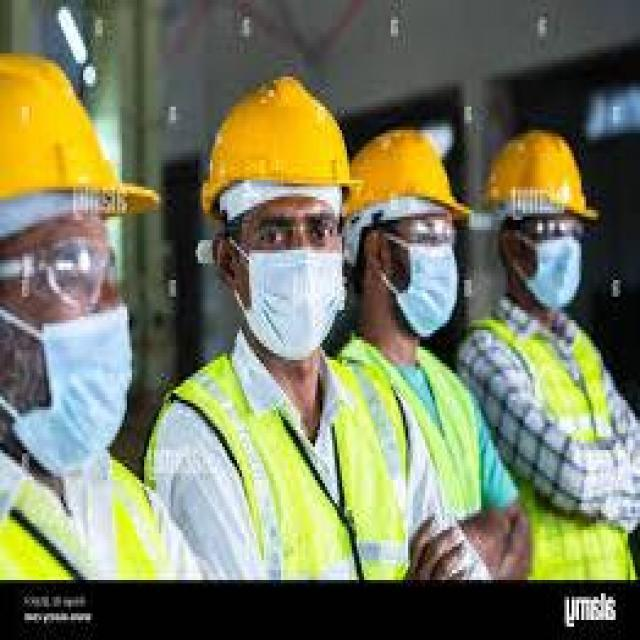reflective_jacket: (153, 346, 415, 580), (474, 309, 635, 583), (0, 443, 173, 579)
safety_helmet: (0, 46, 144, 243), (195, 70, 359, 226), (341, 120, 474, 246), (479, 120, 606, 240)
